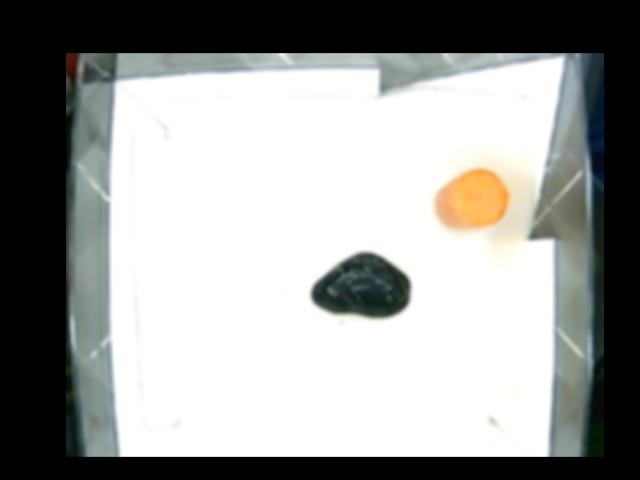Carrot: (435, 166, 511, 231)
Pebble: (309, 252, 410, 316)
